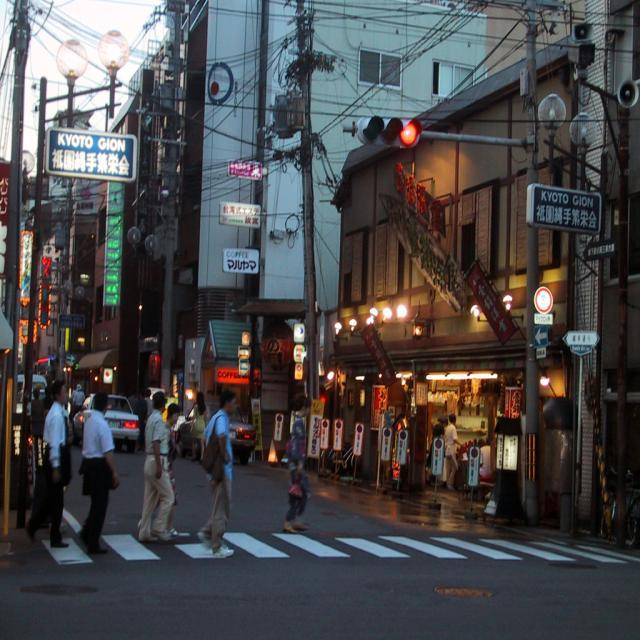traffic light: (357, 113, 425, 154)
